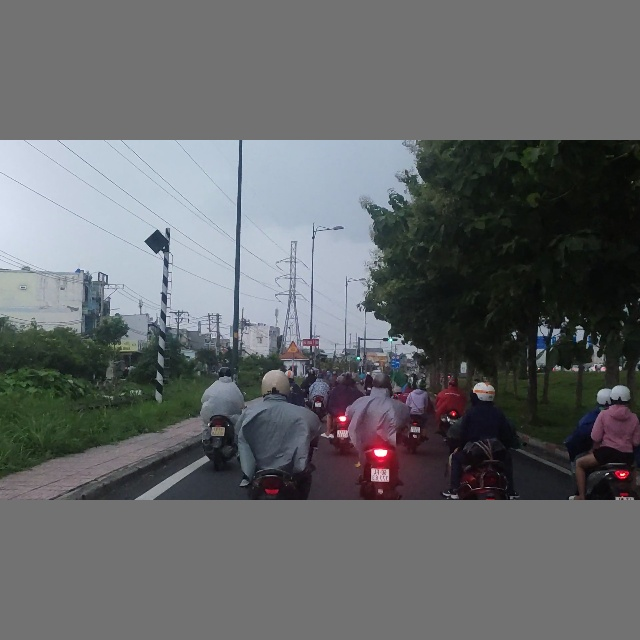W.210: (286, 340, 299, 353)
